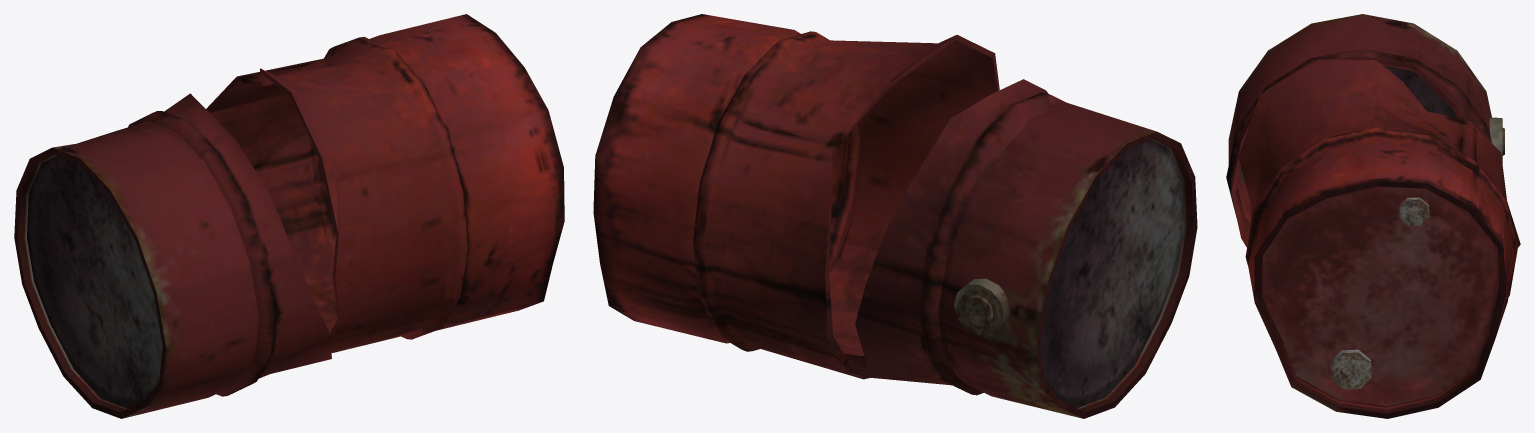
Rendered from Oil_Barrel_Destroyed.obj.
3 views of the same model, side by side, from view 1: azimuth 30°, elevation 25°; view 2: azimuth 150°, elevation 25°; view 3: azimuth 270°, elevation 25° (orthographic). The views are drawn at different scales.
Visible parts, largest first — view 1: Oil_Barrel_Destroyed; view 2: Oil_Barrel_Destroyed; view 3: Oil_Barrel_Destroyed.
Boxes of the visible parts, left/top/right/bottom form: Oil_Barrel_Destroyed: left=14, top=14, right=564, bottom=418; Oil_Barrel_Destroyed: left=593, top=14, right=1197, bottom=418; Oil_Barrel_Destroyed: left=1226, top=14, right=1520, bottom=418.
Bounding box in the file's own units: 72.81 × 48.4 × 49.75.
1 material, 1 textured.
